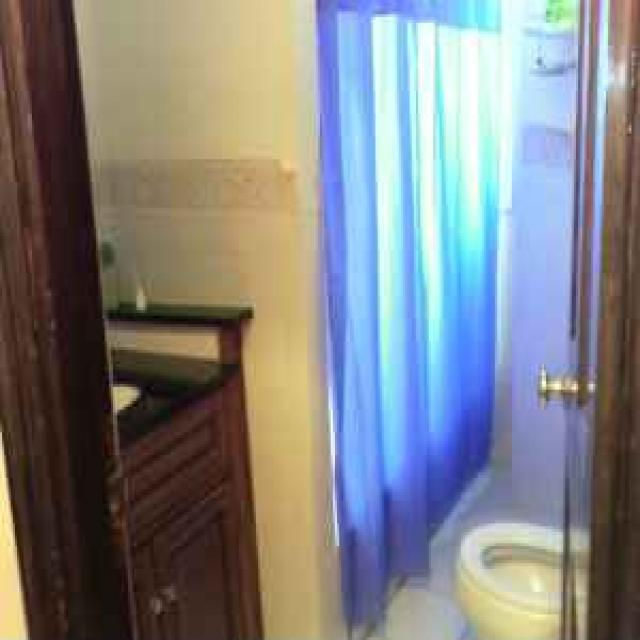closet crop: (109, 293, 265, 634)
curtain crop: (318, 0, 503, 623)
door bars: (563, 3, 634, 634)
floor -X: (350, 461, 565, 634)
handle bar: (535, 364, 567, 404)
partition wall: (292, 0, 348, 637)
wall clock: (75, 0, 316, 637), (2, 0, 134, 634), (491, 0, 578, 472)
washbasin of dentist: (117, 375, 141, 412)
wc chair crop: (454, 518, 563, 634)
